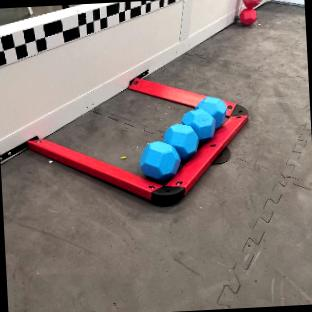Parking-R: (26, 102, 246, 204)
V5_BLUE: (141, 140, 179, 179), (163, 123, 198, 159), (181, 108, 216, 141), (196, 96, 226, 126)
